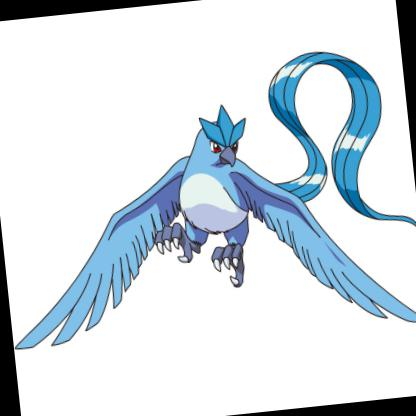Articuno: (1, 4, 416, 416)
